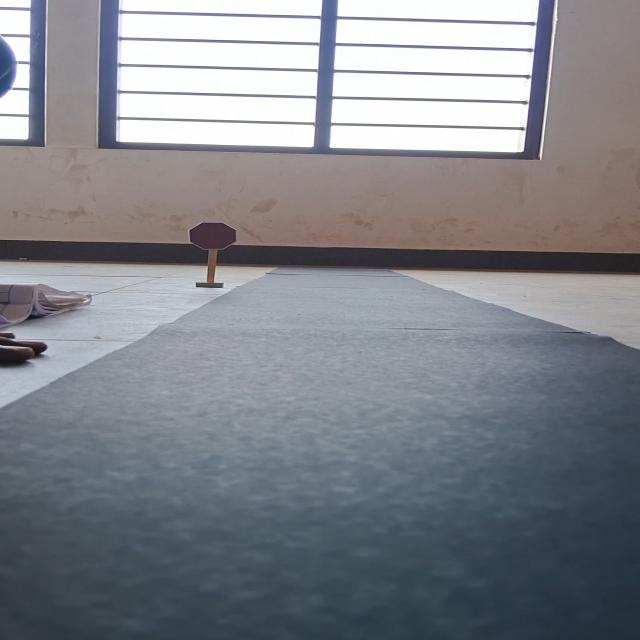Stop: (188, 221, 237, 250)
